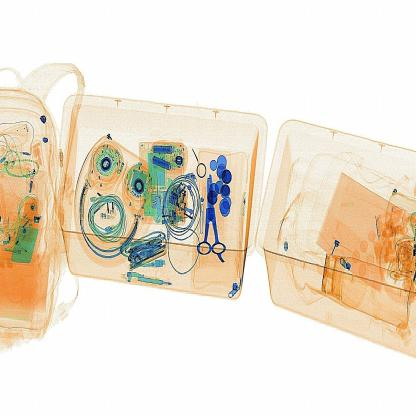gun: (195, 175, 236, 262)
